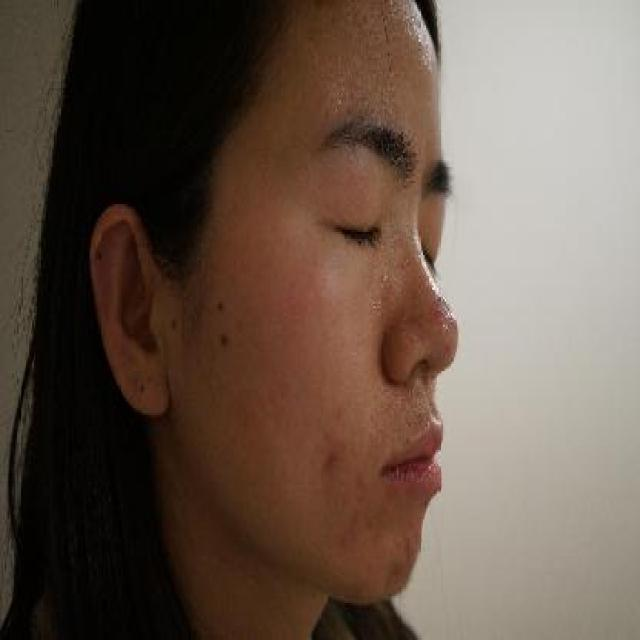dark spot: (317, 445, 346, 485)
